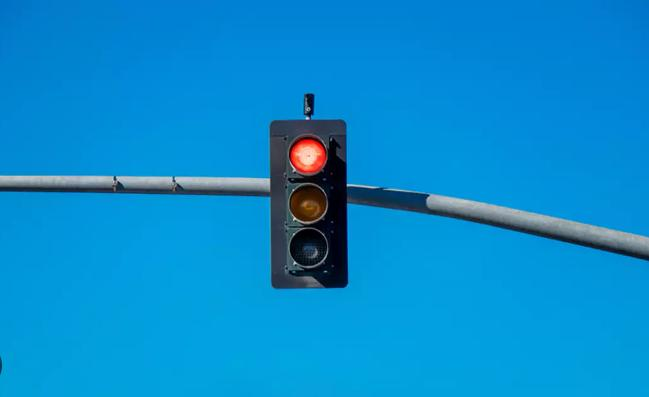red_light: (270, 119, 348, 289)
